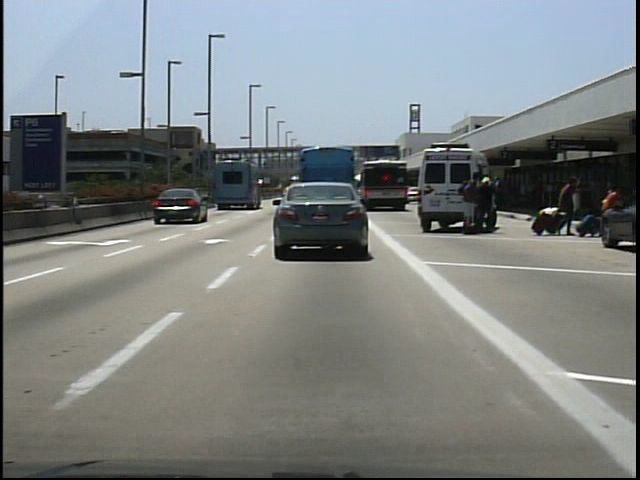person: (597, 181, 626, 246), (555, 168, 581, 240), (458, 168, 483, 234), (477, 174, 500, 232)
